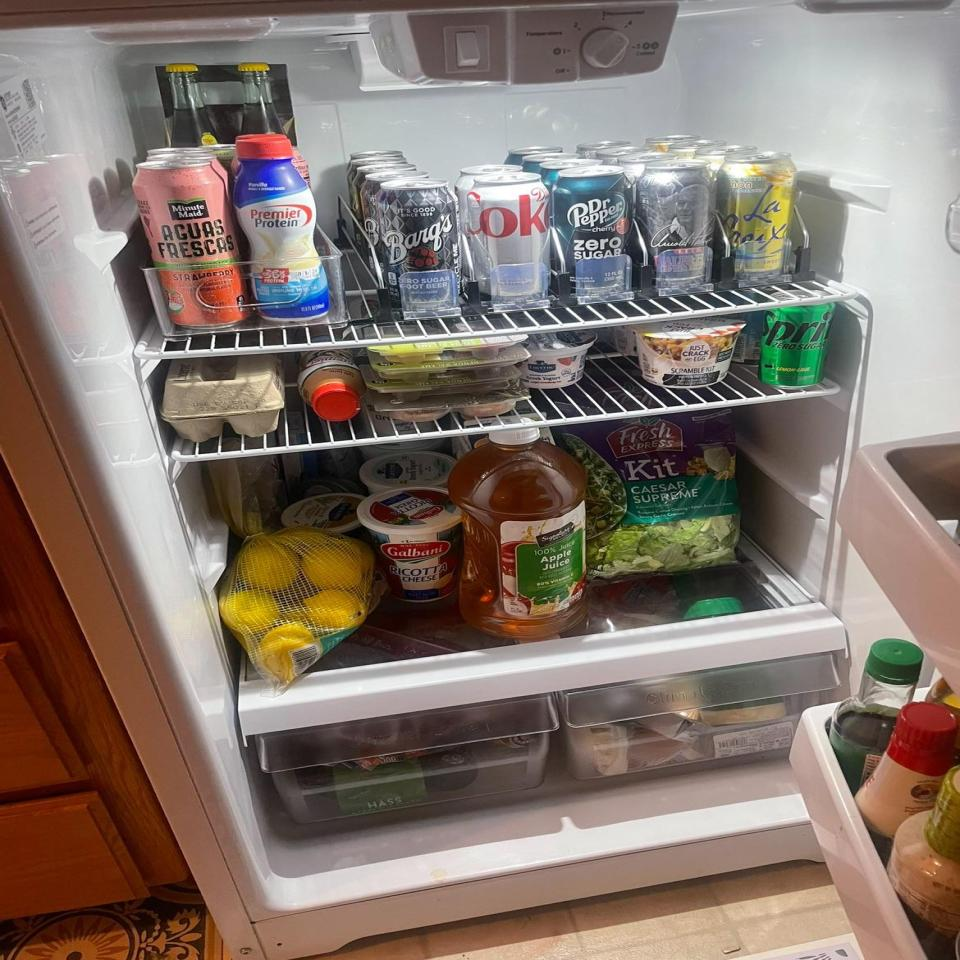Huevos: (162, 354, 287, 442)
Limón: (259, 622, 315, 682), (241, 538, 301, 592), (299, 590, 366, 629), (300, 546, 362, 588), (220, 590, 280, 633)
